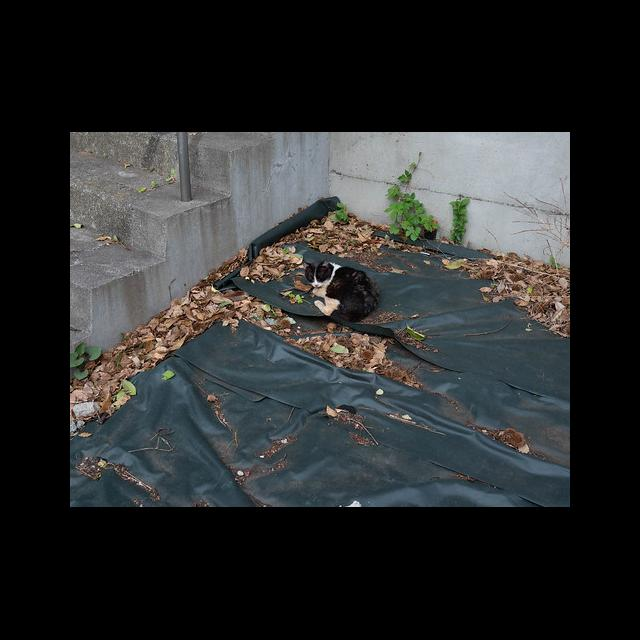animals: (302, 261, 380, 323)
